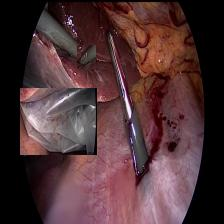Grasper: (104, 29, 133, 118)
Irrigator: (76, 44, 95, 68)
Specimen Bag: (19, 87, 96, 154)
